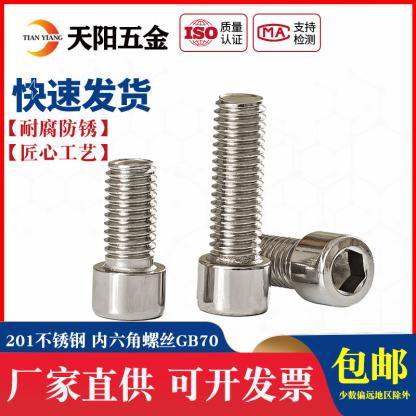FOD: (196, 91, 273, 317), (90, 155, 169, 323), (253, 228, 380, 310)
